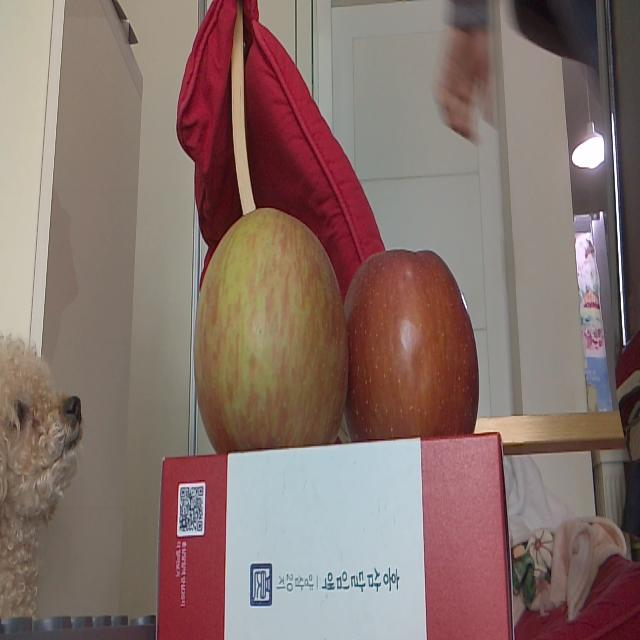apple: (191, 202, 350, 449), (350, 243, 482, 449)
